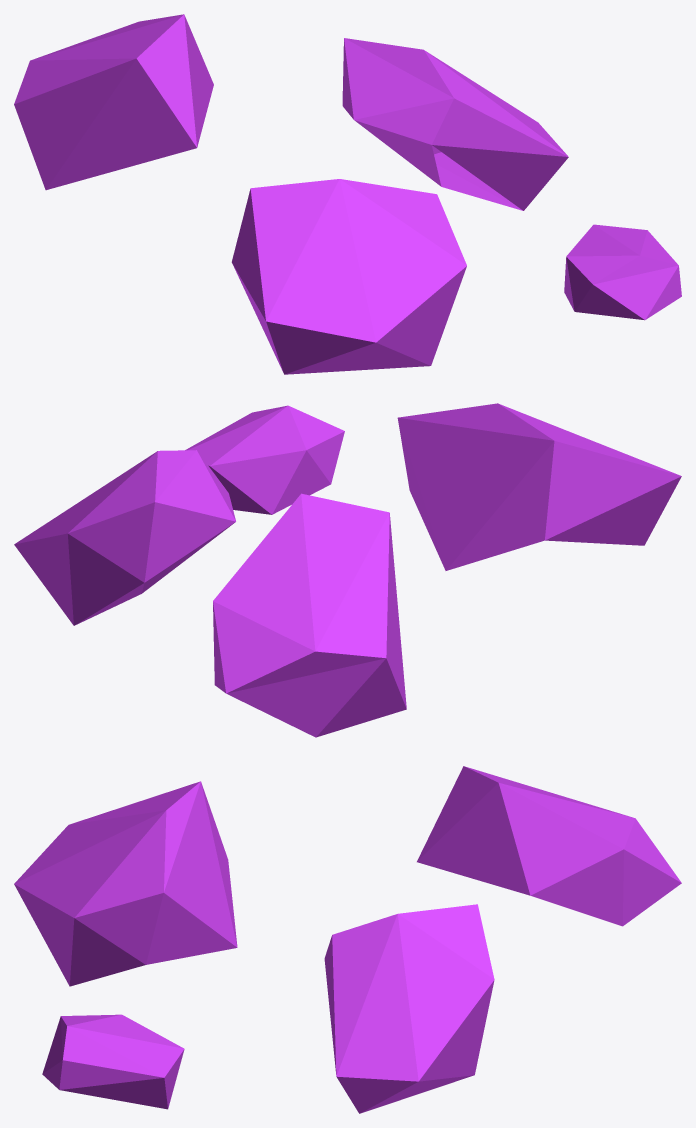
Rendered from Gem_02_rock.FBX.
The picture shows the model from 3 angles, top to bottom: view 1: azimuth 30°, elevation 25°; view 2: azimuth 150°, elevation 25°; view 3: azimuth 270°, elevation 25°; orthographic projection. The views are drawn at different scales.
Visible parts, largest first — view 1: Gem_02_rock; view 2: Gem_02_rock; view 3: Gem_02_rock.
Part boxes in pixels (box(x1,y1,x2,y2)): Gem_02_rock: box(14, 14, 681, 374); Gem_02_rock: box(14, 403, 681, 737); Gem_02_rock: box(14, 766, 681, 1113).
Bounding box in the file's own units: 33.7 × 14.94 × 44.31.
